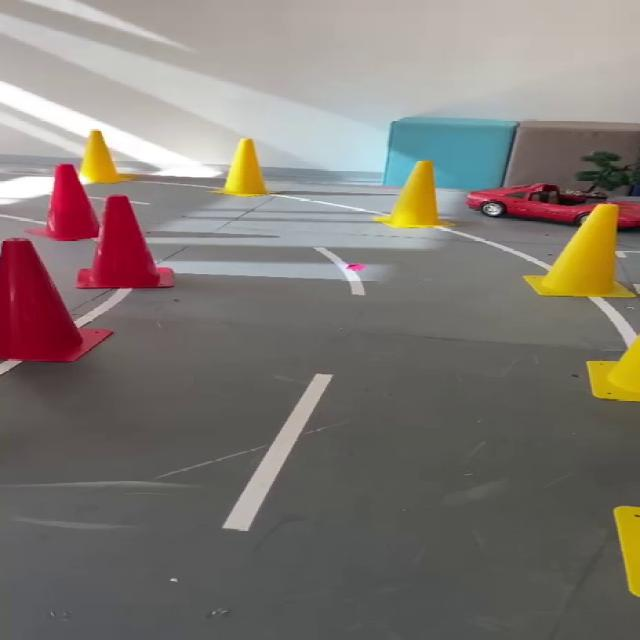Cone-red: (0, 238, 110, 362), (79, 196, 172, 288), (30, 164, 98, 241)
Cones-yellow: (526, 204, 633, 298), (374, 161, 448, 228), (588, 335, 639, 402), (215, 138, 268, 196), (80, 130, 135, 183), (614, 507, 639, 597), (615, 506, 639, 595)
